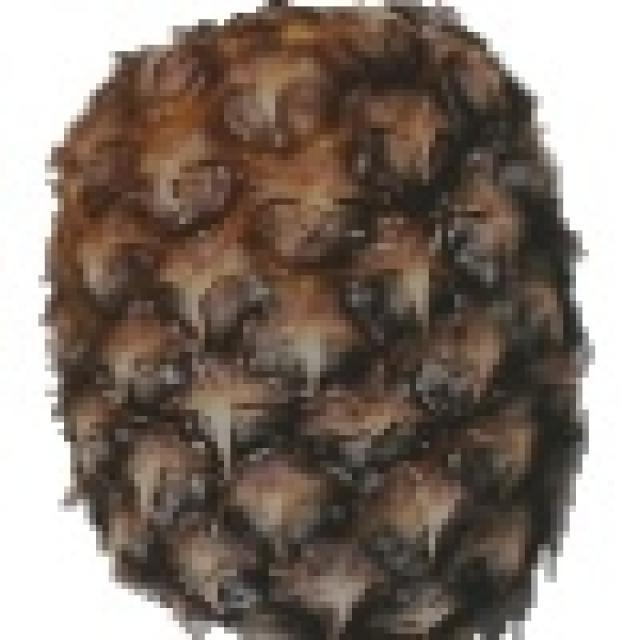pineapple: (46, 0, 584, 640)
